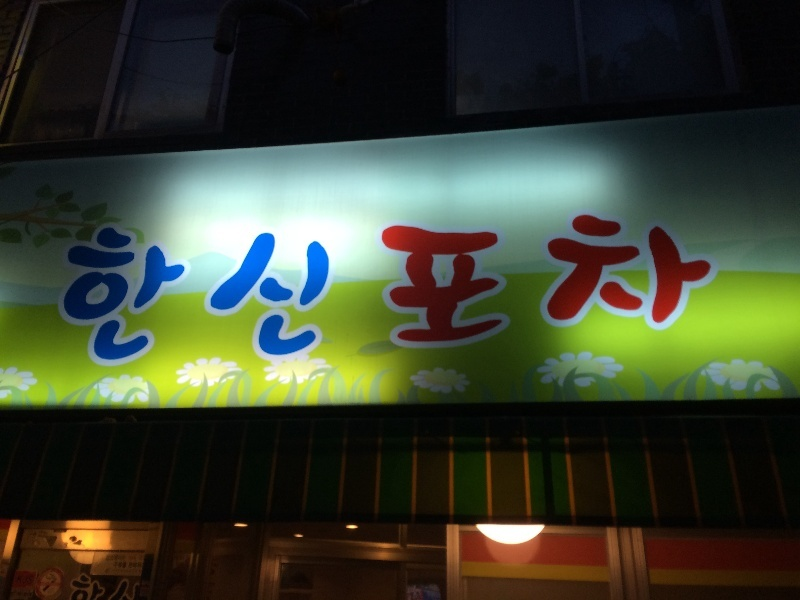text: (65, 224, 80, 370), (81, 224, 96, 370), (97, 224, 112, 370), (113, 224, 128, 370), (129, 224, 144, 370), (145, 224, 160, 370), (161, 224, 176, 370), (177, 224, 192, 370), (193, 224, 208, 370), (209, 224, 224, 370), (225, 224, 240, 370), (241, 224, 256, 370), (257, 224, 272, 370), (273, 224, 288, 370), (289, 224, 304, 370), (305, 224, 320, 370), (385, 208, 400, 353), (401, 208, 416, 353), (417, 208, 432, 353), (433, 208, 448, 353), (449, 208, 464, 353), (465, 208, 480, 353), (481, 208, 496, 353), (497, 208, 512, 353), (513, 208, 528, 353), (529, 208, 544, 353), (545, 208, 560, 353), (561, 208, 576, 353), (577, 208, 592, 353), (593, 208, 608, 353), (609, 208, 624, 353), (625, 208, 640, 353), (641, 208, 656, 353), (657, 208, 672, 353), (673, 208, 688, 353), (689, 208, 704, 353), (321, 224, 331, 370), (705, 208, 712, 353), (378, 208, 384, 353), (81, 572, 96, 600), (97, 572, 112, 600), (113, 572, 128, 600), (129, 572, 144, 600), (71, 572, 80, 600), (129, 555, 145, 569), (113, 555, 128, 569), (19, 576, 32, 586), (107, 555, 112, 569), (33, 576, 34, 586)
